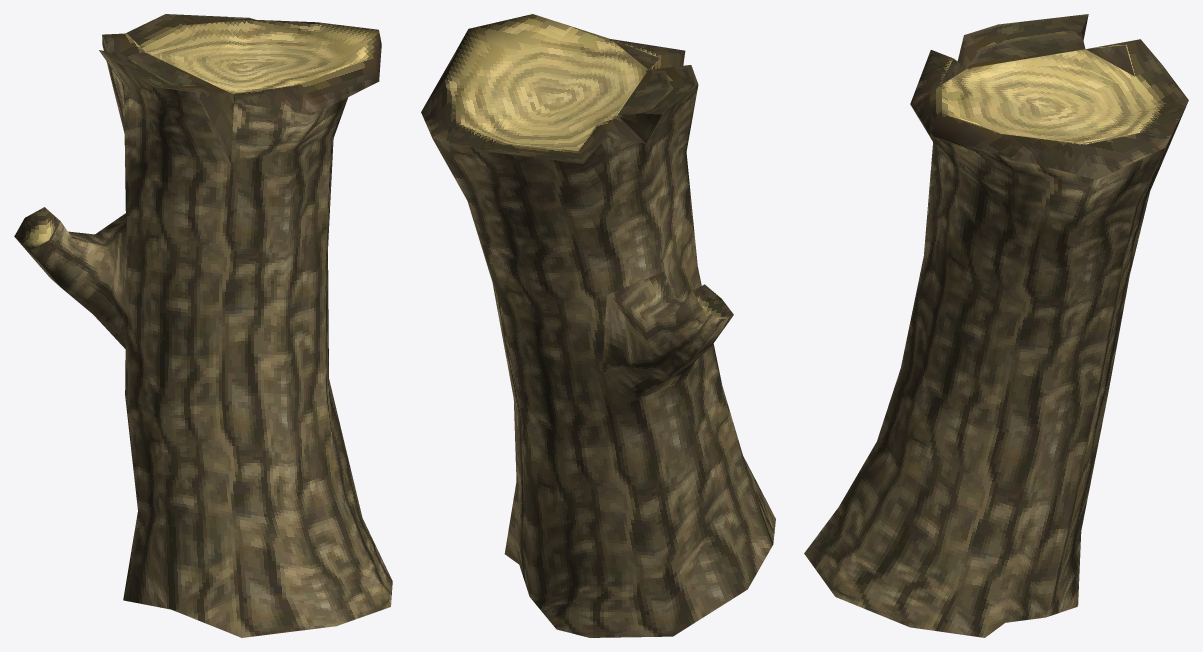
The model's file is INST_HTOWN_FLOATINGLOG.fbx.
3 renders of one model, left to right at view 1: azimuth 30°, elevation 25°; view 2: azimuth 150°, elevation 25°; view 3: azimuth 270°, elevation 25°, orthographic.
Visible parts, largest first — view 1: INST_HTOWN_FLOATINGLOG; view 2: INST_HTOWN_FLOATINGLOG; view 3: INST_HTOWN_FLOATINGLOG.
Boxes of the visible parts, x1,y1,x2,y2 form: INST_HTOWN_FLOATINGLOG: (14,14,392,637); INST_HTOWN_FLOATINGLOG: (421,14,775,637); INST_HTOWN_FLOATINGLOG: (804,14,1188,637).
Size of the model in its own units: 12849 by 21119 by 13624.
2 materials, 2 textured.
